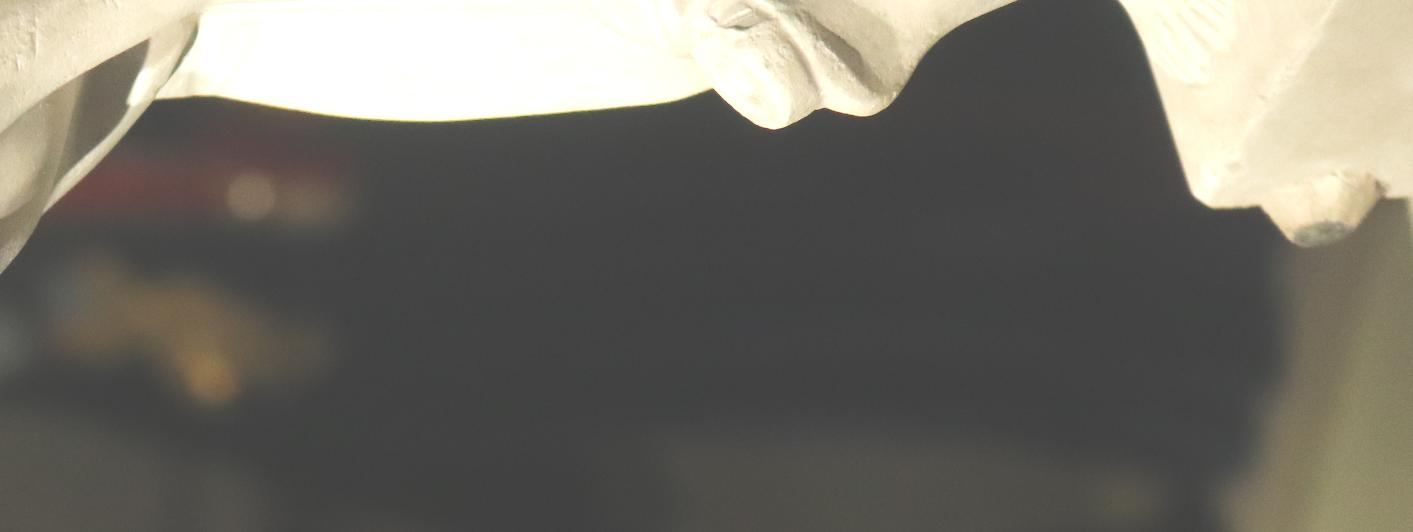the_female_peasent: (0, 0, 727, 532)
